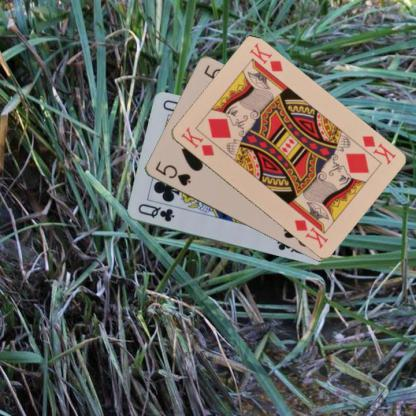5s: (152, 158, 192, 188)
Kd: (178, 124, 215, 158), (359, 133, 397, 166)
Qc: (135, 201, 176, 224)
